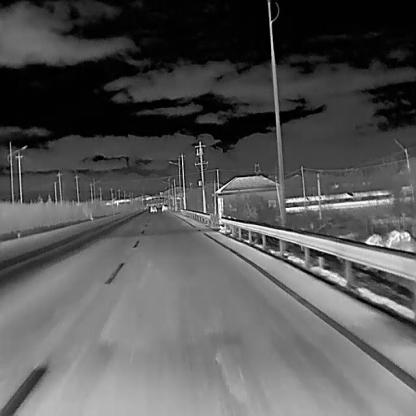car: (148, 203, 158, 213), (161, 202, 169, 212)
